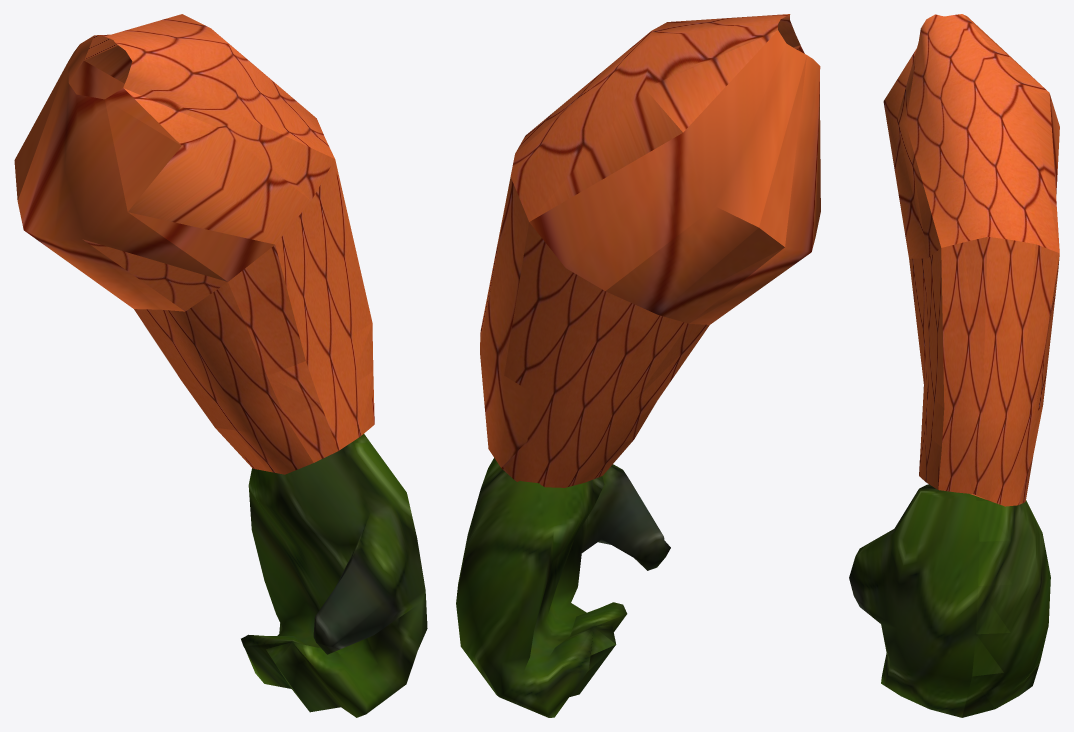
File: BrazoIzq.obj
3 views of the same model, side by side, from view 1: azimuth 30°, elevation 25°; view 2: azimuth 150°, elevation 25°; view 3: azimuth 270°, elevation 25° (orthographic). The views are drawn at different scales.
Visible parts, largest first — view 1: brazoizq; view 2: brazoizq; view 3: brazoizq.
Boxes of the visible parts, bbox=[...] form: brazoizq: bbox=[14, 14, 427, 717]; brazoizq: bbox=[456, 14, 820, 717]; brazoizq: bbox=[849, 14, 1059, 717].
Bounding box in the file's own units: 1.33 × 2.56 × 0.8161.
Materials: 2 (2 with a texture image).
